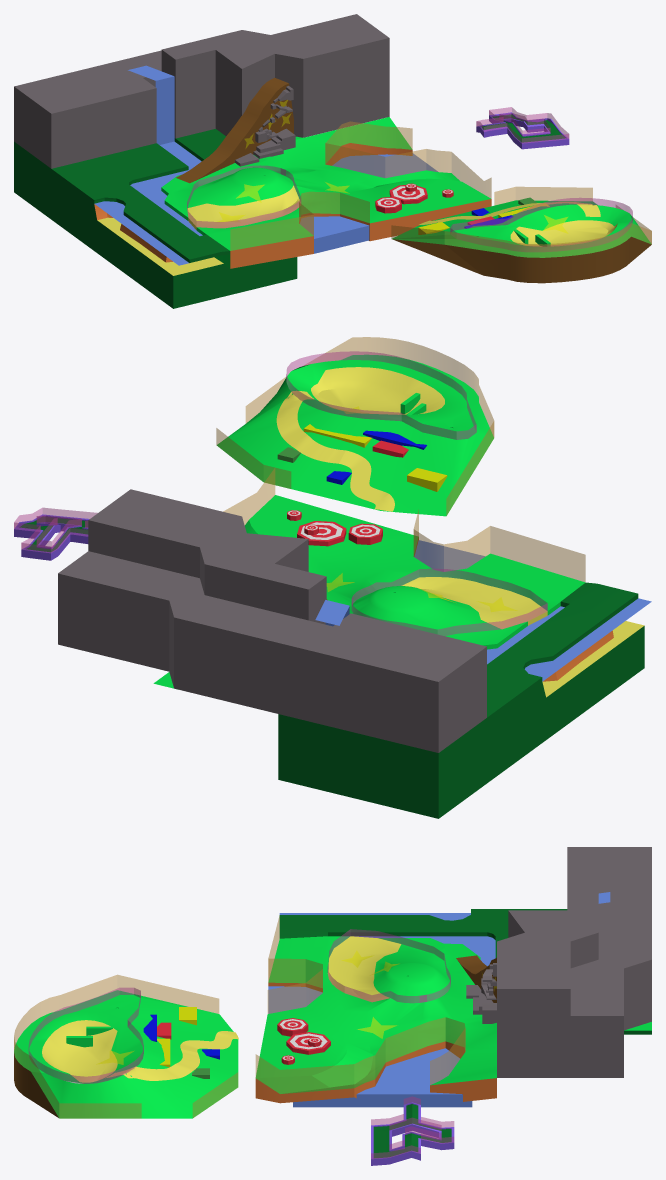
The model's file is grassland.fbx.
The picture shows the model from 3 angles, top to bottom: view 1: azimuth 30°, elevation 25°; view 2: azimuth 150°, elevation 25°; view 3: azimuth 270°, elevation 25°; orthographic projection. The views are drawn at different scales.
Parts seen in each view (by area): view 1: Side, Golf Course, GolfballWall, PuzzleWater, MT-Accident, Course 2, Water, Water.001, MT-Accident-Stairway, GolfBallWall, CandyPlatform, Platforms (+2 smaller); view 2: Side, GolfballWall, Golf Course, PathDecoration, Course 2, PuzzleWater, GolfBallWall, Platforms, CandyPlatform, Water; view 3: Side, Golf Course, GolfballWall, Water.001, Course 2, GolfBallWall, PathDecoration, PuzzleWater, CandyPlatform, Platforms, MT-Accident-Stairway, Water (+2 smaller).
Boxes of the visible parts, <box> form: Side: <box>14,14,389,308</box>; Golf Course: <box>161,117,491,268</box>; GolfballWall: <box>391,186,651,283</box>; PuzzleWater: <box>94,65,202,265</box>; MT-Accident: <box>176,78,293,183</box>; Course 2: <box>476,107,569,149</box>; Water: <box>300,216,369,253</box>; Water.001: <box>332,153,437,178</box>; MT-Accident-Stairway: <box>235,86,295,166</box>; GolfBallWall: <box>187,165,300,228</box>; CandyPlatform: <box>375,183,453,213</box>; Platforms: <box>418,197,549,234</box>; Side: <box>58,489,644,818</box>; GolfballWall: <box>216,337,494,516</box>; Golf Course: <box>153,468,585,688</box>; PathDecoration: <box>276,390,394,511</box>; Course 2: <box>14,507,97,560</box>; PuzzleWater: <box>315,598,651,681</box>; GolfBallWall: <box>351,568,547,635</box>; Platforms: <box>277,424,447,491</box>; CandyPlatform: <box>287,510,382,546</box>; Water: <box>414,540,485,571</box>; Side: <box>279,847,651,1077</box>; Golf Course: <box>255,916,651,1103</box>; GolfballWall: <box>14,974,238,1118</box>; Water.001: <box>293,1048,472,1107</box>; Course 2: <box>371,1096,454,1165</box>; GolfBallWall: <box>327,929,450,1003</box>; PathDecoration: <box>106,1031,238,1080</box>; PuzzleWater: <box>279,892,610,966</box>; CandyPlatform: <box>277,1018,330,1064</box>; Platforms: <box>143,1007,219,1078</box>; MT-Accident-Stairway: <box>466,963,496,1023</box>; Water: <box>268,986,322,1013</box>.
Bounding box in the file's own units: 25183 × 7252 × 28629.
